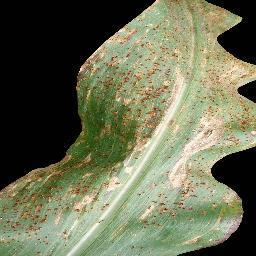Corn_Common_Rust: (65, 0, 256, 156), (0, 156, 245, 256)
